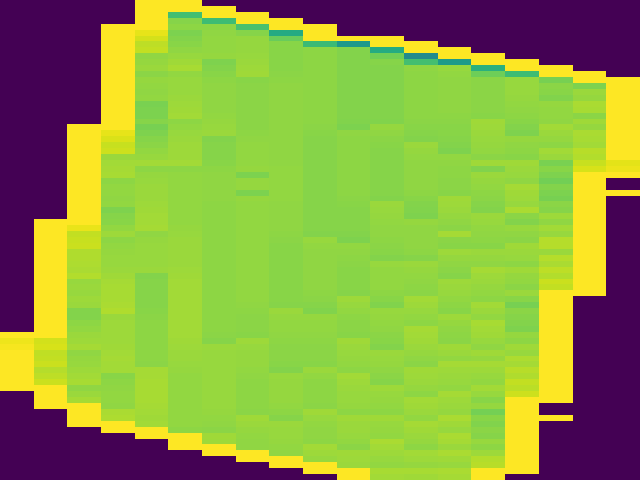cylinder: (2, 2, 640, 480)
